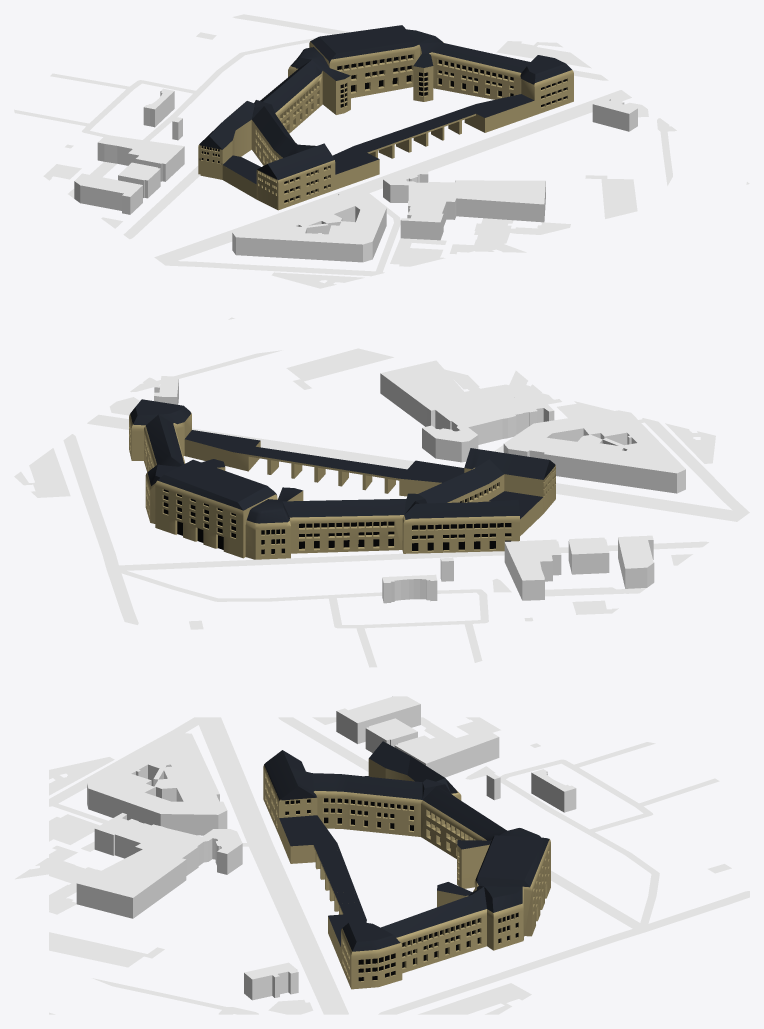
Rendered from paris_cite_scolaire_claude_monet.glb.
The picture shows the model from 3 angles, top to bottom: view 1: azimuth 30°, elevation 25°; view 2: azimuth 150°, elevation 25°; view 3: azimuth 270°, elevation 25°; orthographic projection. The views are drawn at different scales.
Parts seen in each view (by area): view 1: cite_scolaire_claude_monet, city, roads; view 2: cite_scolaire_claude_monet, city, roads; view 3: city, cite_scolaire_claude_monet, roads.
Part boxes in pixels (box(x1,y1,x2,y2)): cite_scolaire_claude_monet: box(198, 25, 573, 210); city: box(43, 32, 749, 288); roads: box(14, 14, 676, 276); cite_scolaire_claude_monet: box(129, 399, 555, 559); city: box(14, 317, 715, 629); roads: box(63, 350, 749, 667); city: box(15, 696, 731, 1014); cite_scolaire_claude_monet: box(263, 741, 550, 989); roads: box(49, 717, 749, 1014).
Size of the model in its own units: 1.16 by 0.0981 by 1.21.
